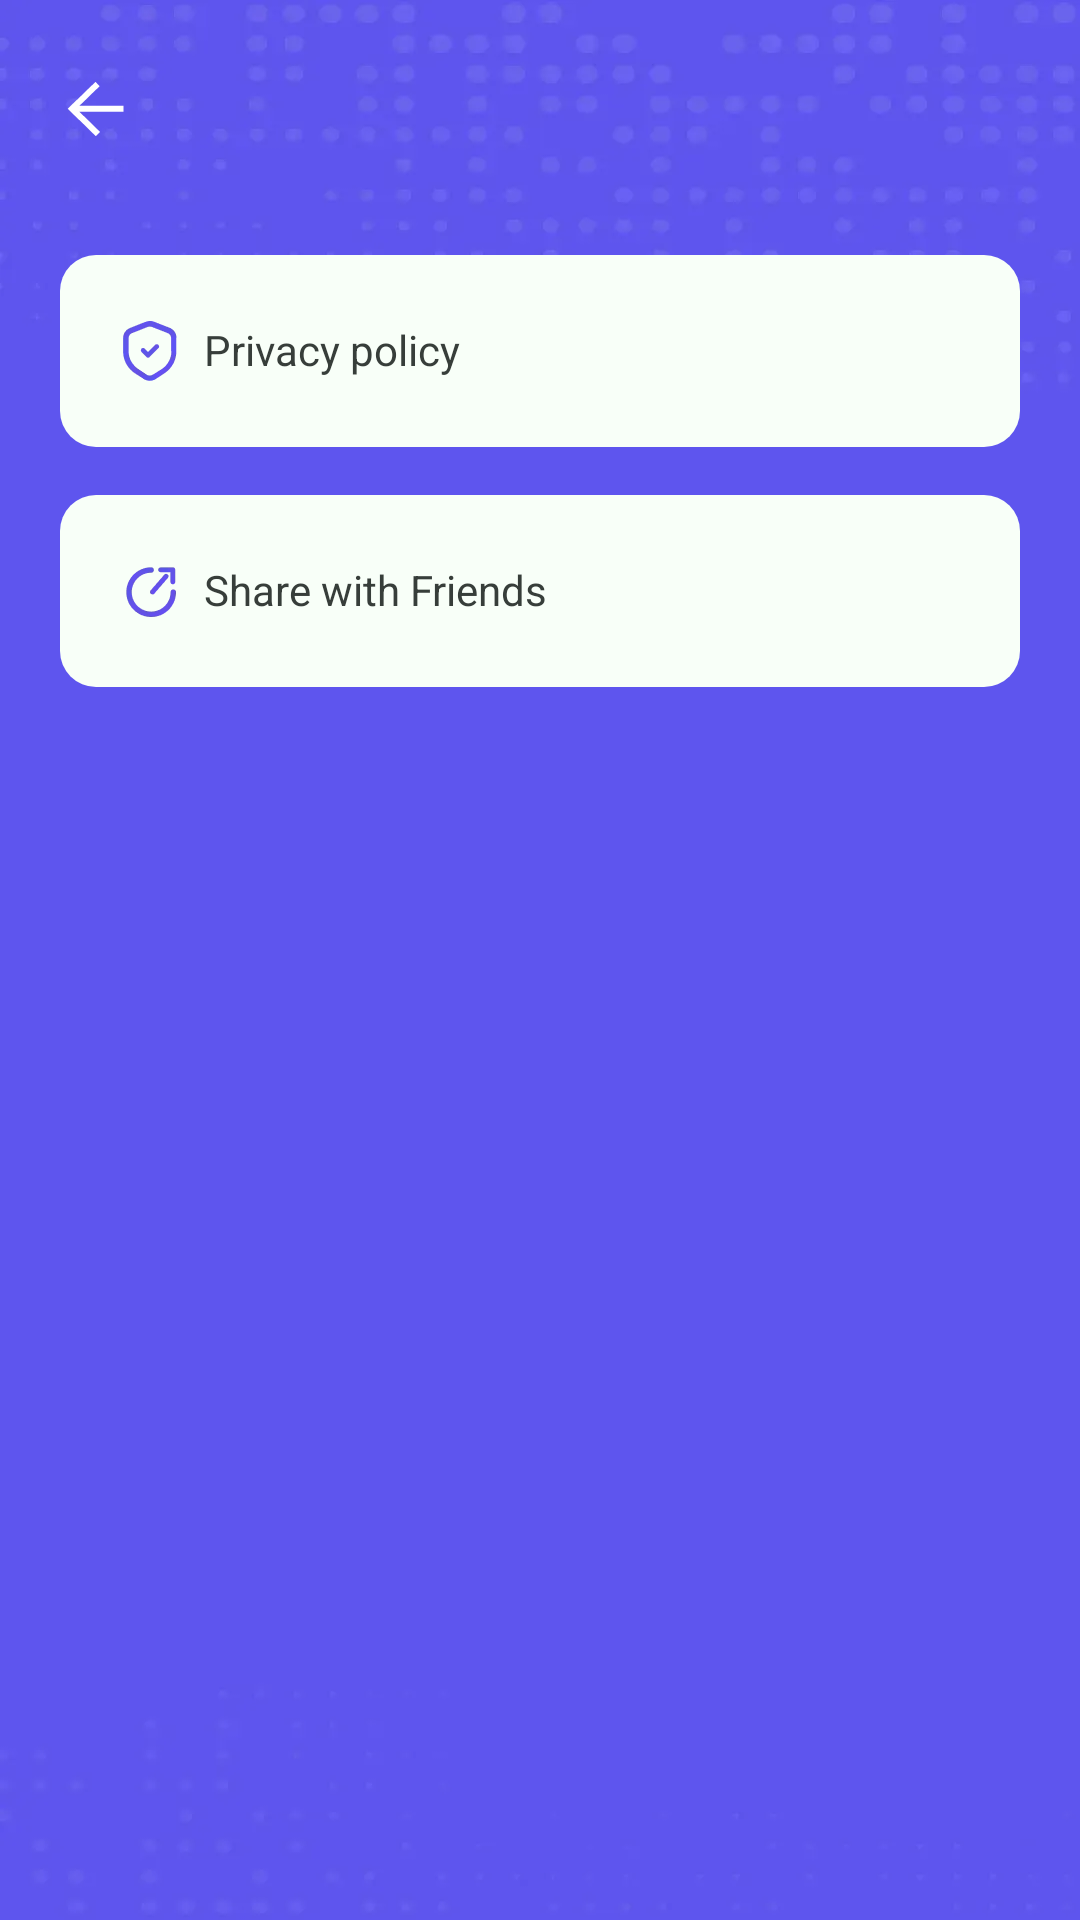

Named icons in this screenshot (1080px x 1920px) and their bounding boxes, (x1, y1, x2, y2):
back: (68, 82, 124, 136)
